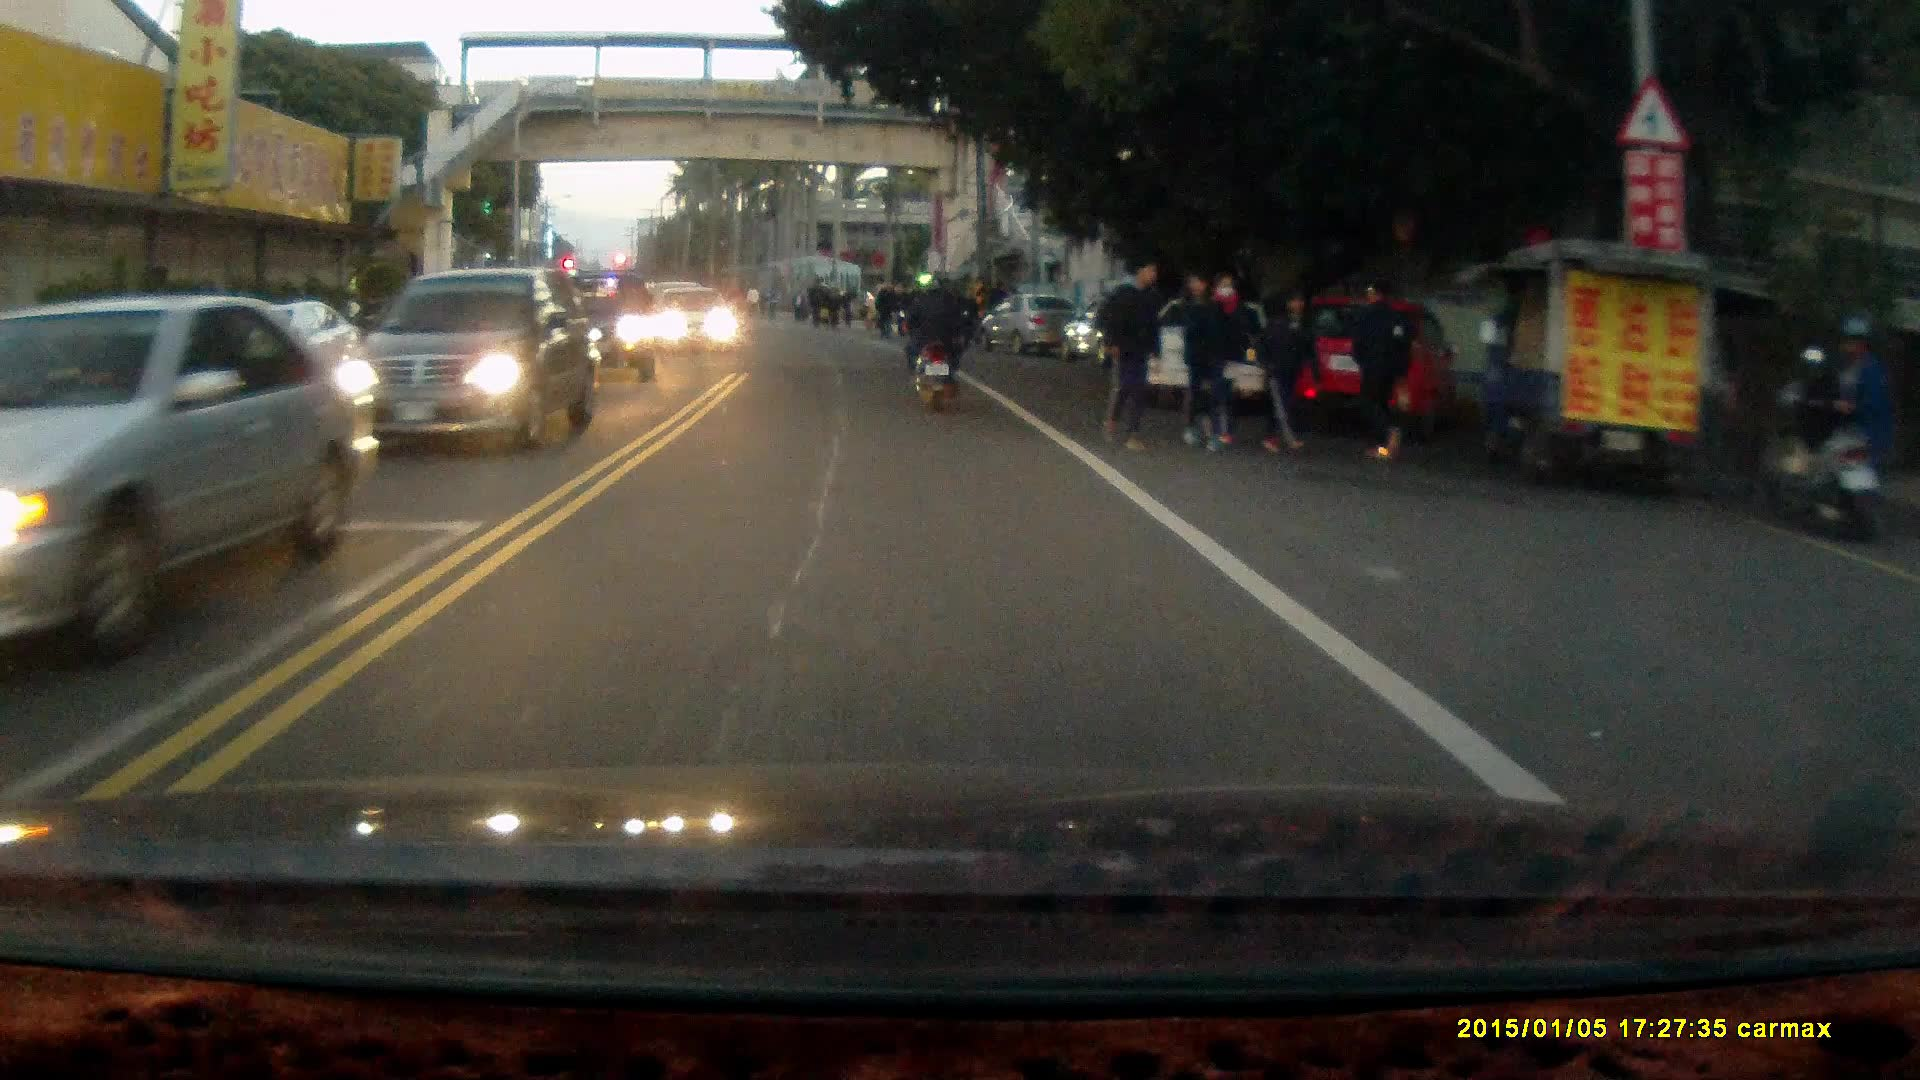pedestrian: (1094, 248, 1167, 451), (1826, 309, 1892, 516), (1345, 275, 1414, 462), (1253, 284, 1323, 453), (1175, 261, 1236, 451), (1202, 270, 1264, 450)
rider: (896, 272, 968, 415)
vehicle: (3, 293, 350, 687), (351, 266, 599, 451), (1261, 293, 1456, 438), (1137, 293, 1336, 428), (532, 271, 661, 387), (982, 294, 1081, 357), (658, 287, 746, 357)
